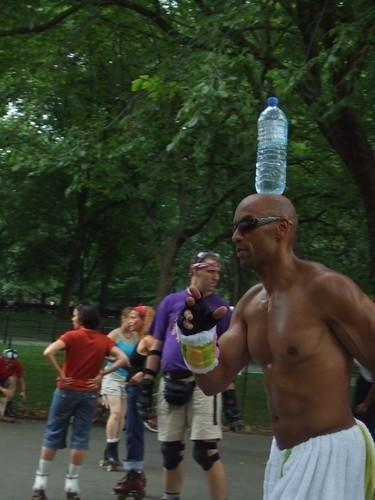bottle-plastic: (252, 96, 288, 194)
